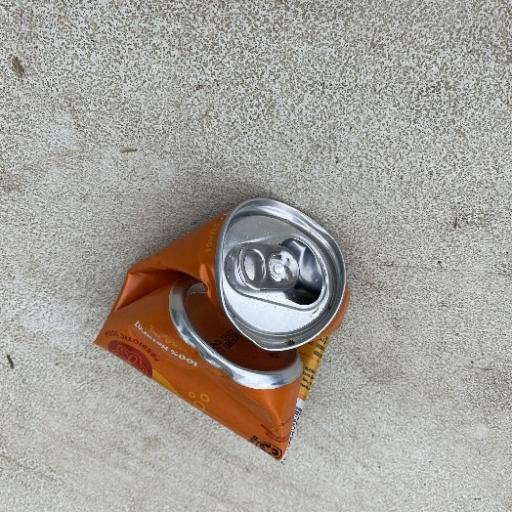Metal: (92, 196, 351, 464)
